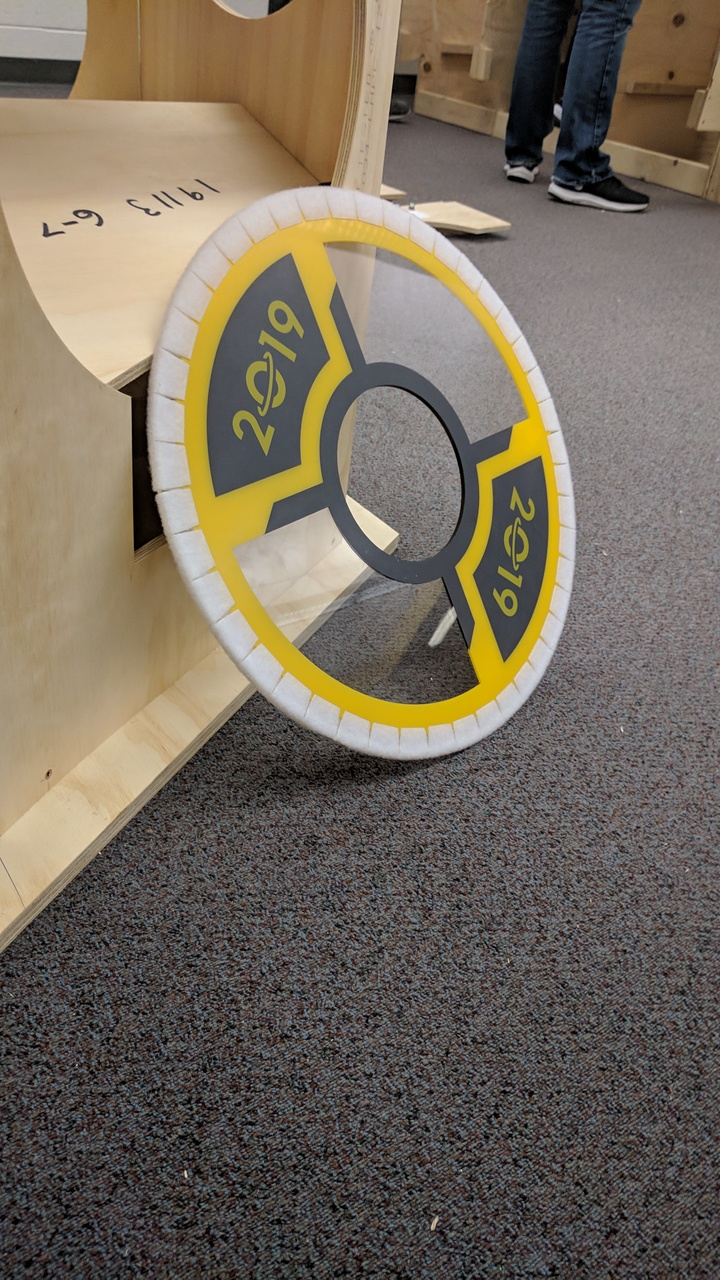hatch_panel: (140, 176, 602, 770)
